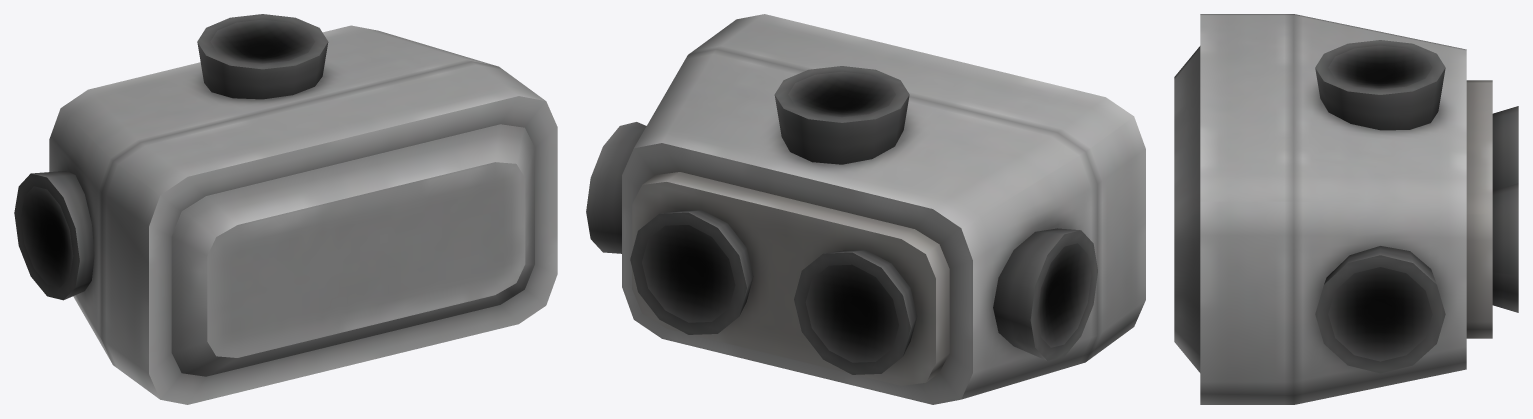
Rendered from Tantares_MOE_2_E.obj.
3 views of the same model, side by side, from view 1: azimuth 30°, elevation 25°; view 2: azimuth 150°, elevation 25°; view 3: azimuth 270°, elevation 25° (orthographic). The views are drawn at different scales.
Parts seen in each view (by area): view 1: Tantares_MOE_2_E; view 2: Tantares_MOE_2_E; view 3: Tantares_MOE_2_E.
Part boxes in pixels (x1,y1,x2,y2): Tantares_MOE_2_E: (14,14,557,404); Tantares_MOE_2_E: (586,14,1145,404); Tantares_MOE_2_E: (1174,14,1518,404).
Size of the model in its own units: 0.2375 by 0.135 by 0.165.
